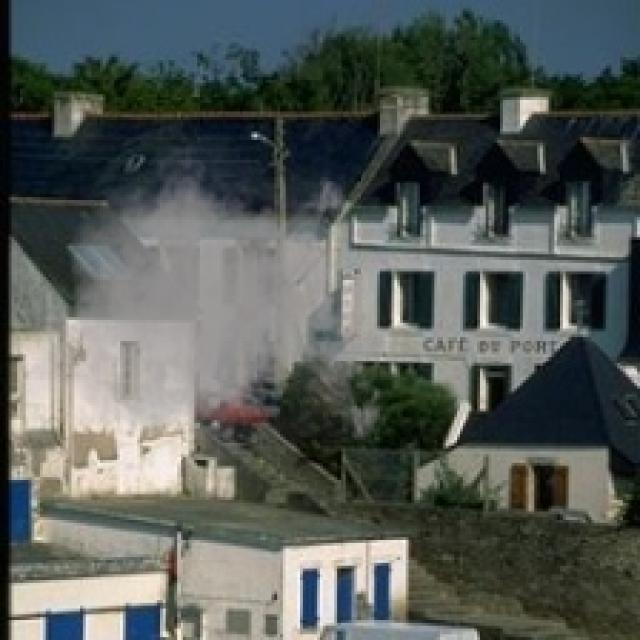smoke: (32, 123, 394, 494)
